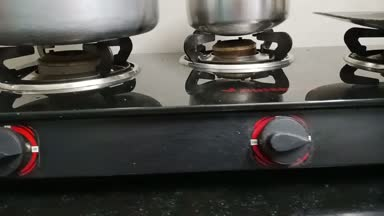flame_gas_off: (188, 26, 340, 177)
